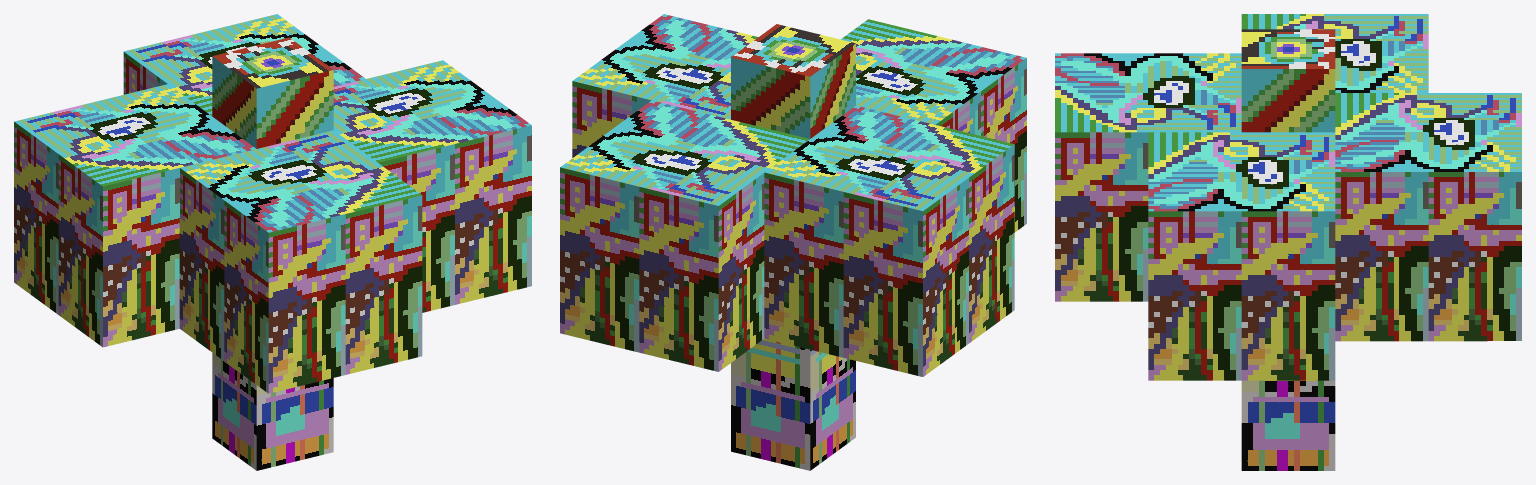
Rendered from second_one.gltf.
The picture shows the model from 3 angles, left to right: view 1: azimuth 30°, elevation 25°; view 2: azimuth 150°, elevation 25°; view 3: azimuth 270°, elevation 25°; orthographic projection. The views are drawn at different scales.
Parts seen in each view (by area): view 1: default; view 2: default; view 3: default.
Boxes of the visible parts, box(x1,y1,x2,y2) form: default: box(14, 14, 531, 470); default: box(560, 14, 1026, 470); default: box(1055, 14, 1521, 470).
Size of the model in its own units: 5 by 4.75 by 5.
Materials: 1 (1 with a texture image).
